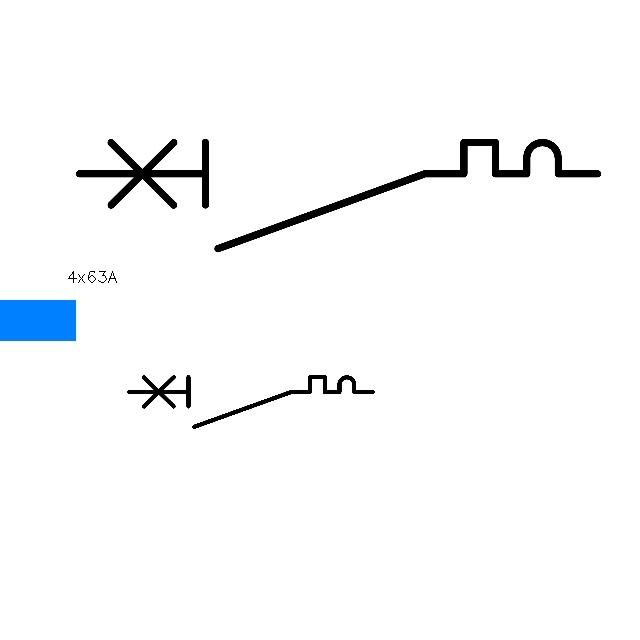interruptor_termomagnetico: (66, 129, 611, 262), (123, 371, 379, 433)
